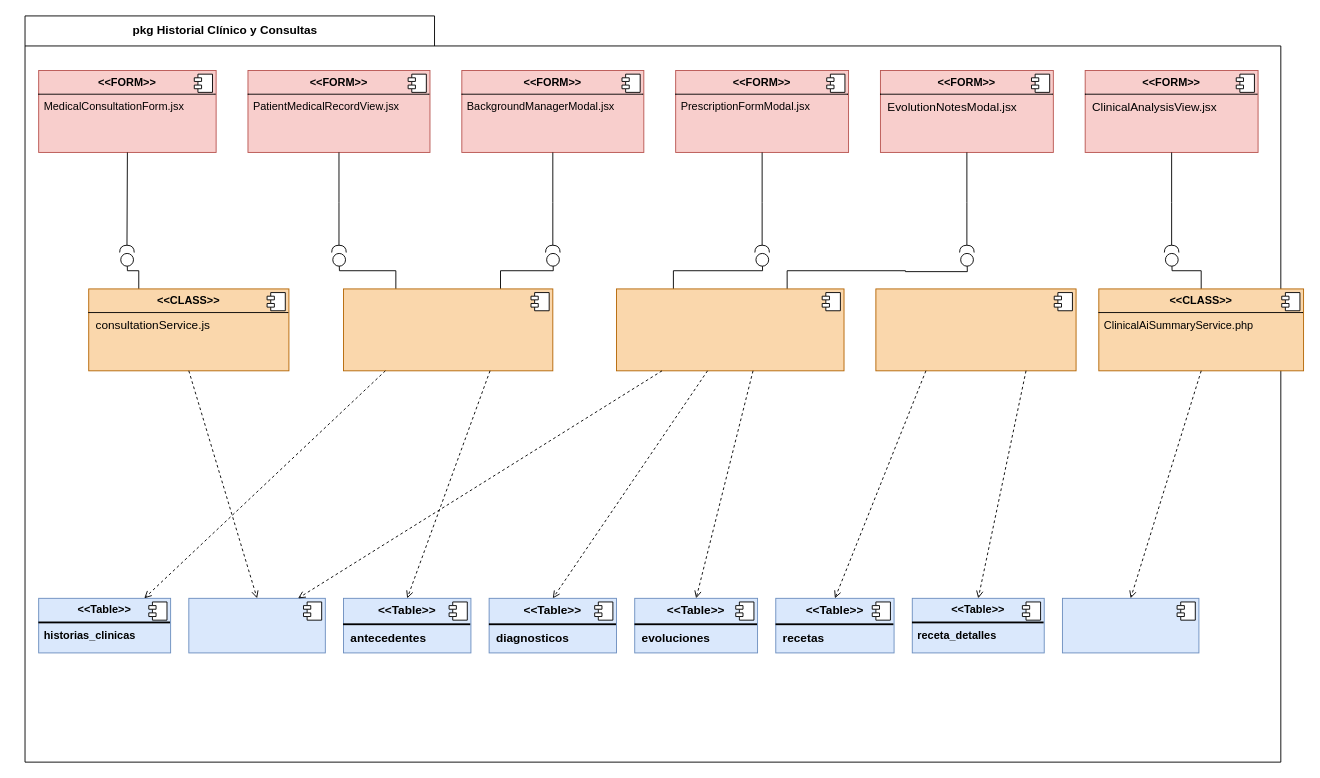
This 1320x778 diagram has some shape labels left out. The centre of each missing label's shape, as x and y in pixels:
<<CLASS>> MedicalConsultationService.php: (x=730, y=329)
<<CLASS>> medicalRecordService.js: (x=448, y=329)
<<CLASS>> MedicalRecordService.php: (x=975, y=329)
<<Table>> analisis_clinicos: (x=1130, y=625)
<<Table>> consultas_medicas: (x=256, y=625)
